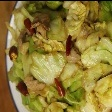juanxincairoupian: (5, 0, 112, 110)
